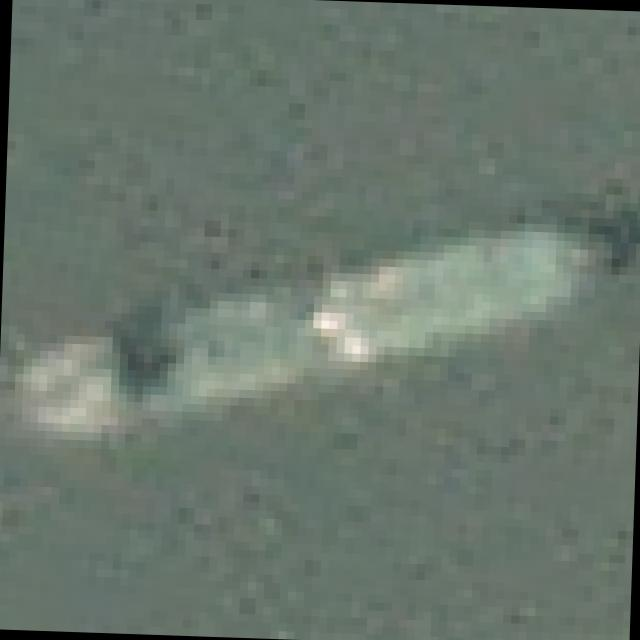ship: (0, 171, 635, 493)
